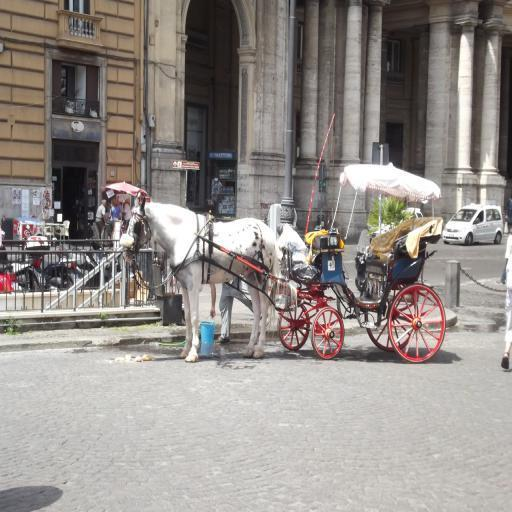horse: (120, 194, 299, 366)
